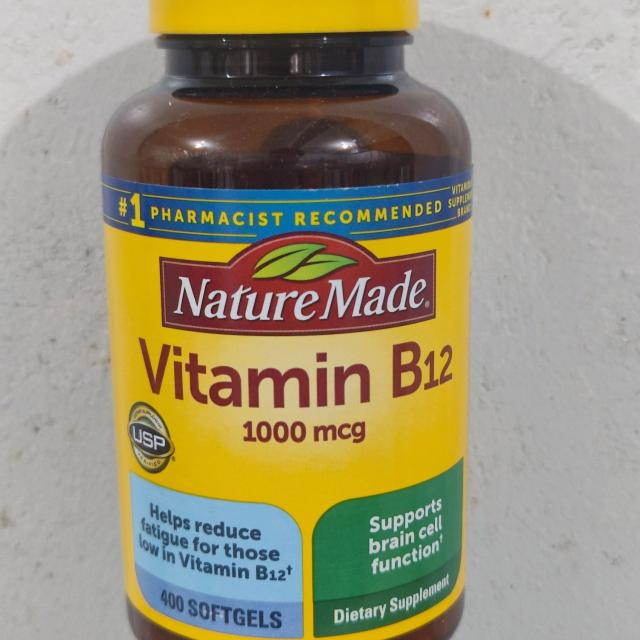food-supliment: (118, 165, 455, 635)
